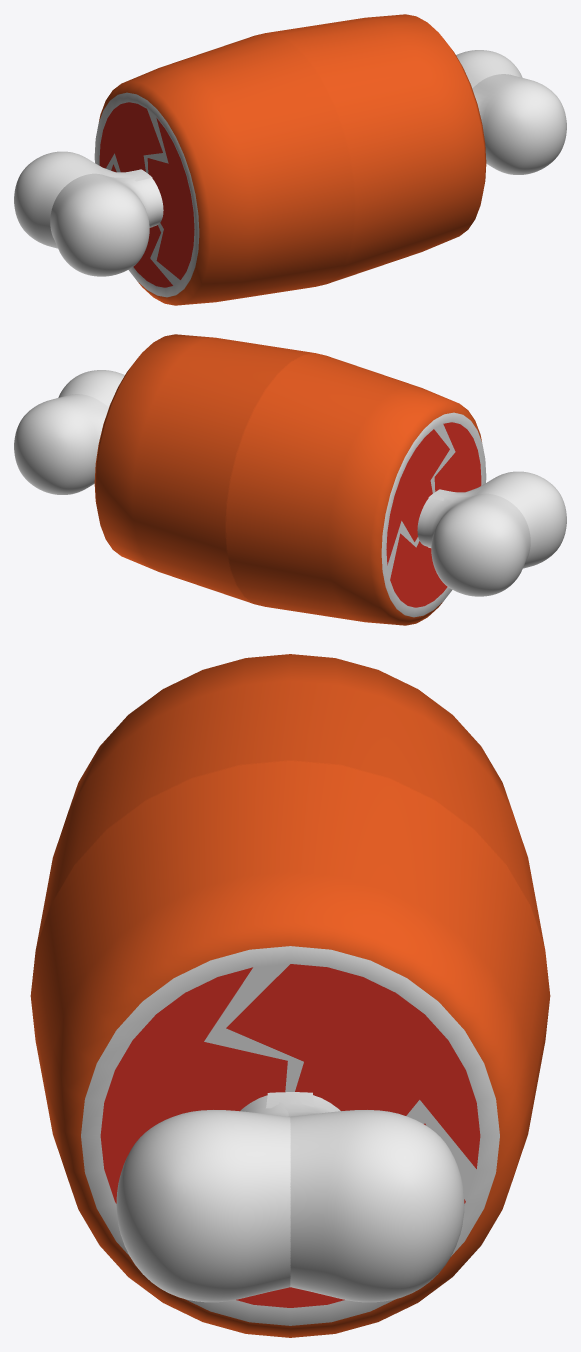
File: Meat_on_bone.fbx
3 views of the same model, one above another, from view 1: azimuth 30°, elevation 25°; view 2: azimuth 150°, elevation 25°; view 3: azimuth 270°, elevation 25° (orthographic). The views are drawn at different scales.
Parts seen in each view (by area): view 1: Cube; view 2: Cube; view 3: Cube.
Boxes of the visible parts, box(x1,y1,x2,y2) form: Cube: box(14, 14, 566, 305); Cube: box(14, 334, 566, 625); Cube: box(30, 654, 550, 1337).
Bounding box in the file's own units: 146 × 65.57 × 65.57.
